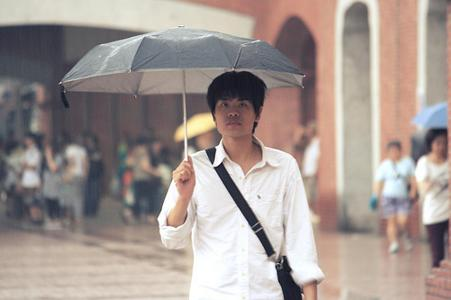person: (158, 71, 326, 300)
